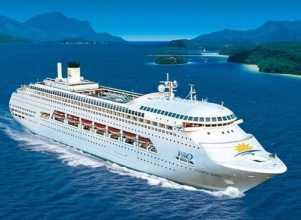youlun: (6, 52, 288, 201)
